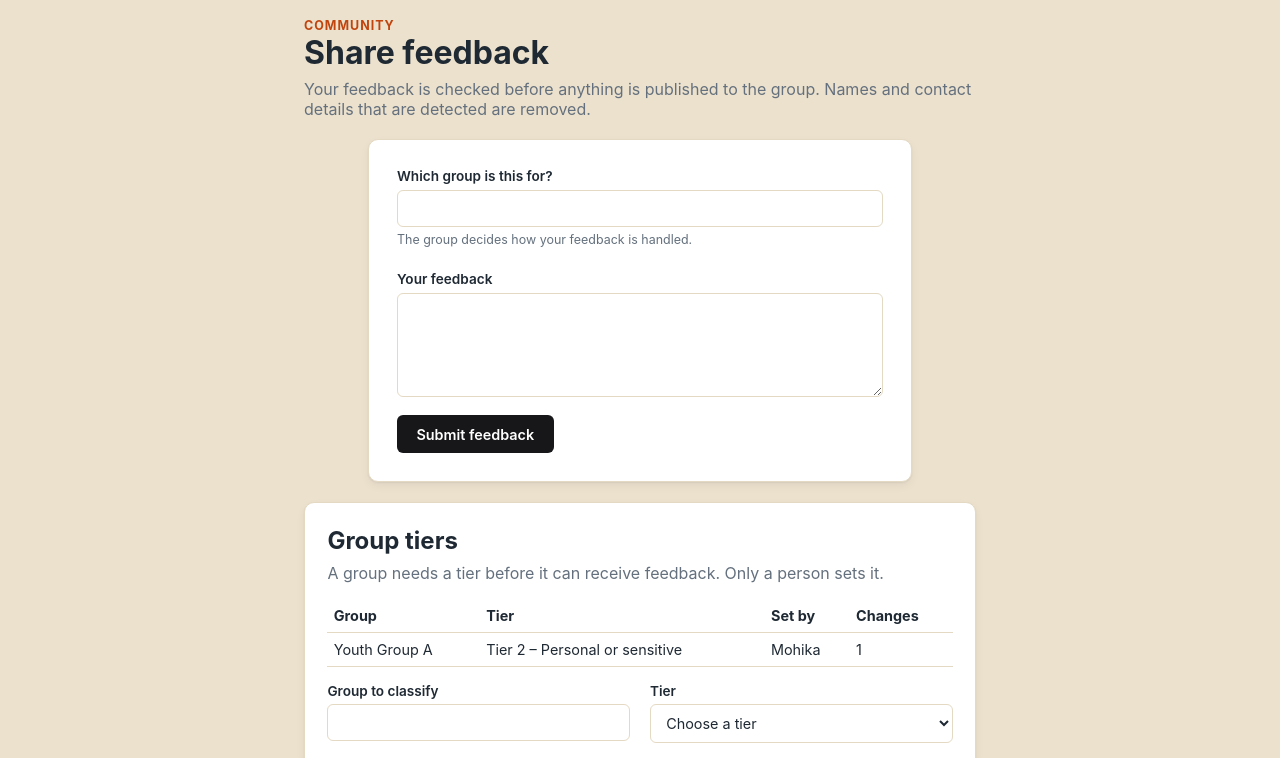
CommunitySubmissionPage (Story 24) › shows the assigned tier back to the submitter as confirmation
Type "Youth Group A" into the field labelled "Which group is this for?".
click(640, 208); type("Youth Group A")  # box [397,190,883,227]
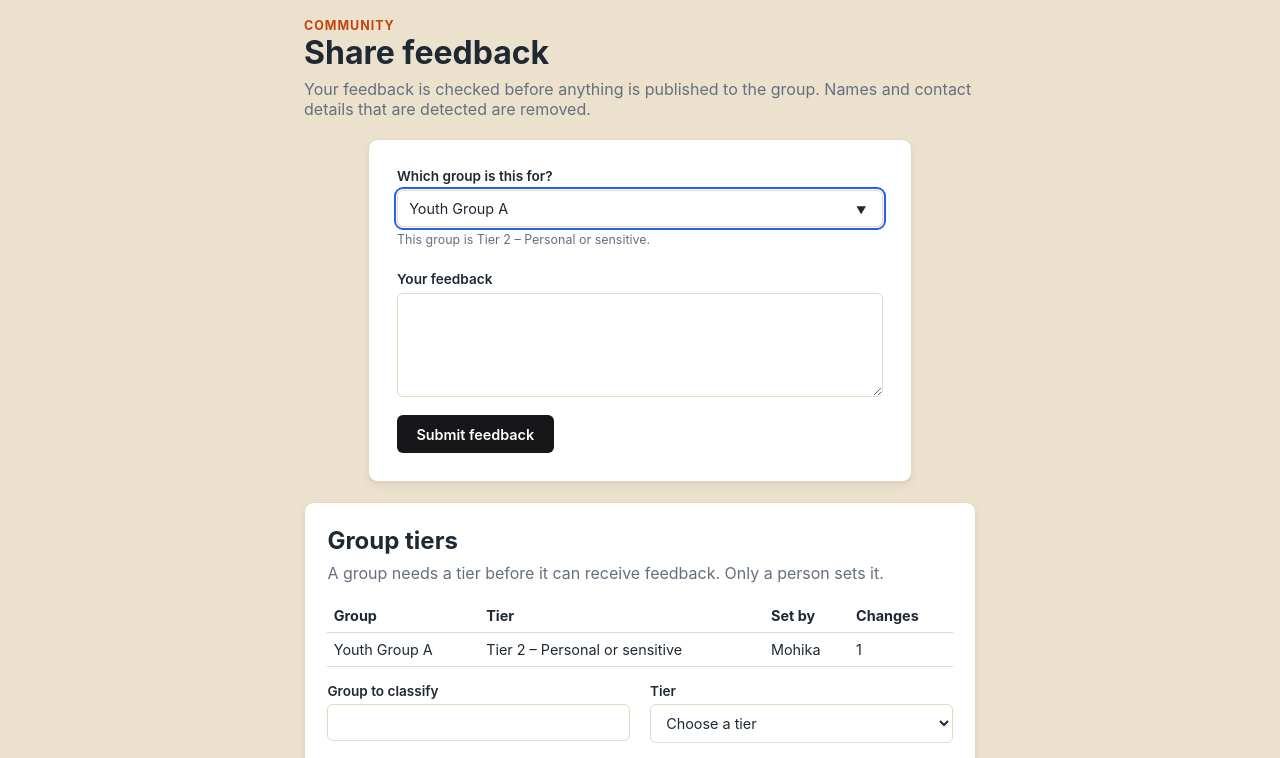
Type "The workshop was well organised." into the text box labelled "Your feedback".
click(640, 345); type("The workshop was well organised.")  # box [397,293,883,397]
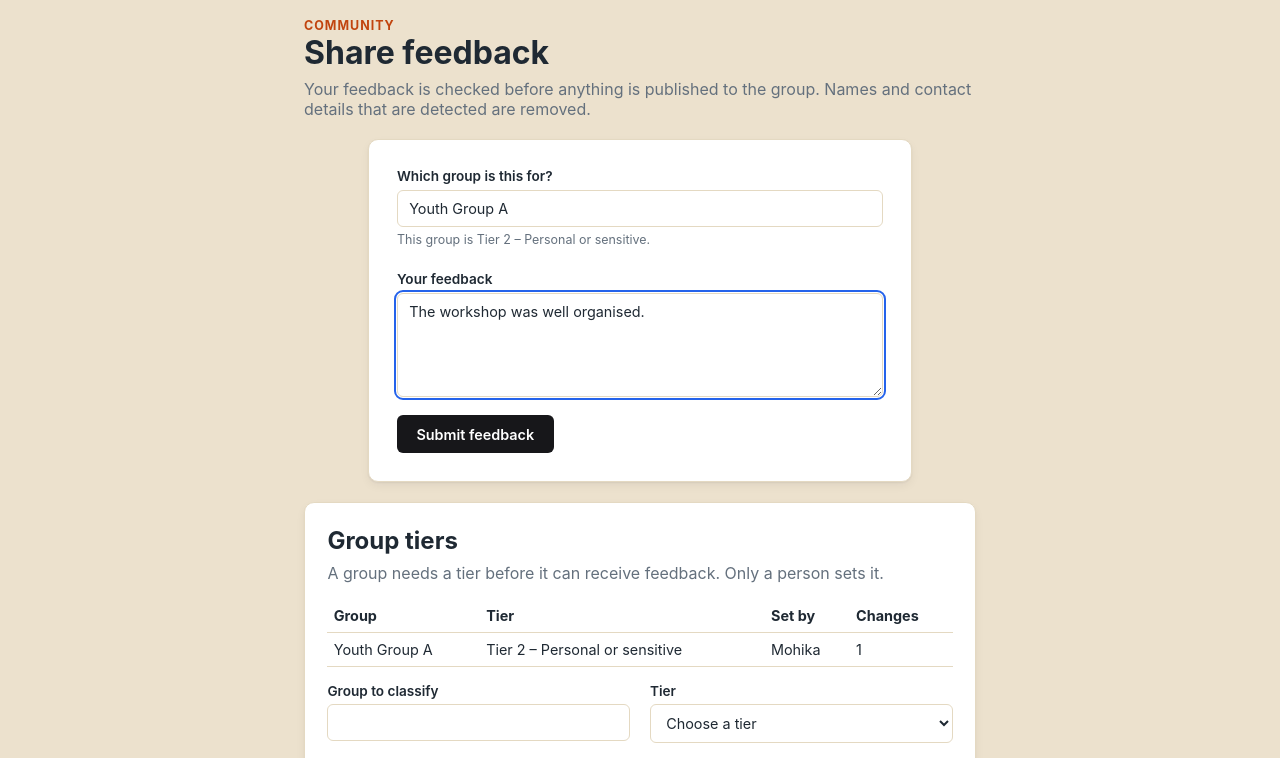
Click the button "Submit feedback".
click(475, 434)  # box [397,415,554,453]
(page scrolled)
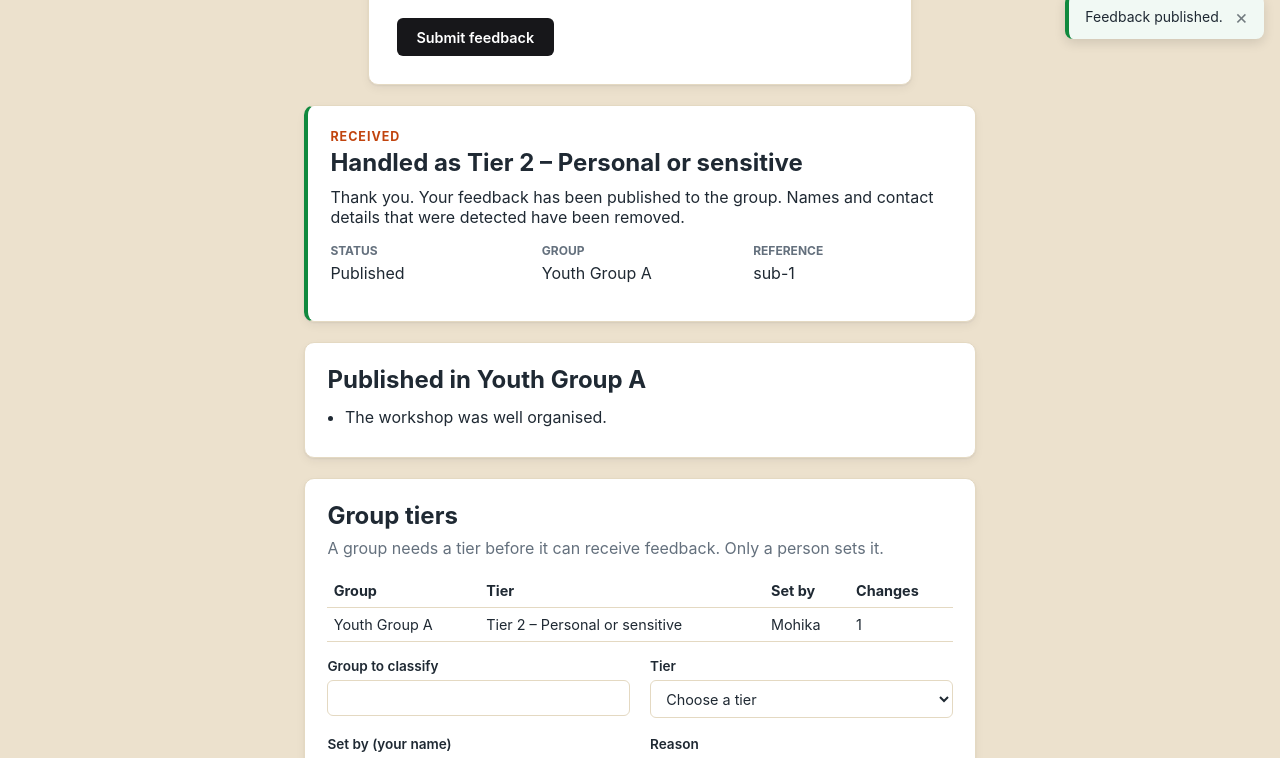
Check: the heading "Handled as Tier 2 – Personal or sensitive" is shown, box [330,148,803,177]
Check: the text "Your feedback has been published to the group." is shown, box [330,187,934,227]
Check: the heading "Published in Youth Group A" is shown, box [327,366,646,394]
